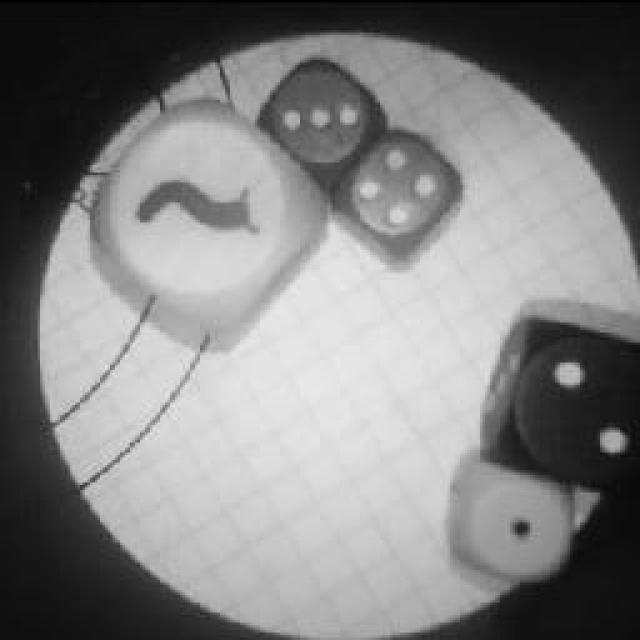dice_1: (440, 455, 578, 593)
dice_2: (475, 312, 640, 490)
dice_3: (250, 52, 390, 180)
dice_4: (328, 125, 468, 265)
